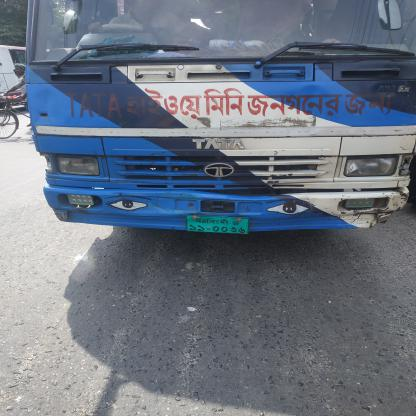license_plate: (183, 215, 257, 234)
